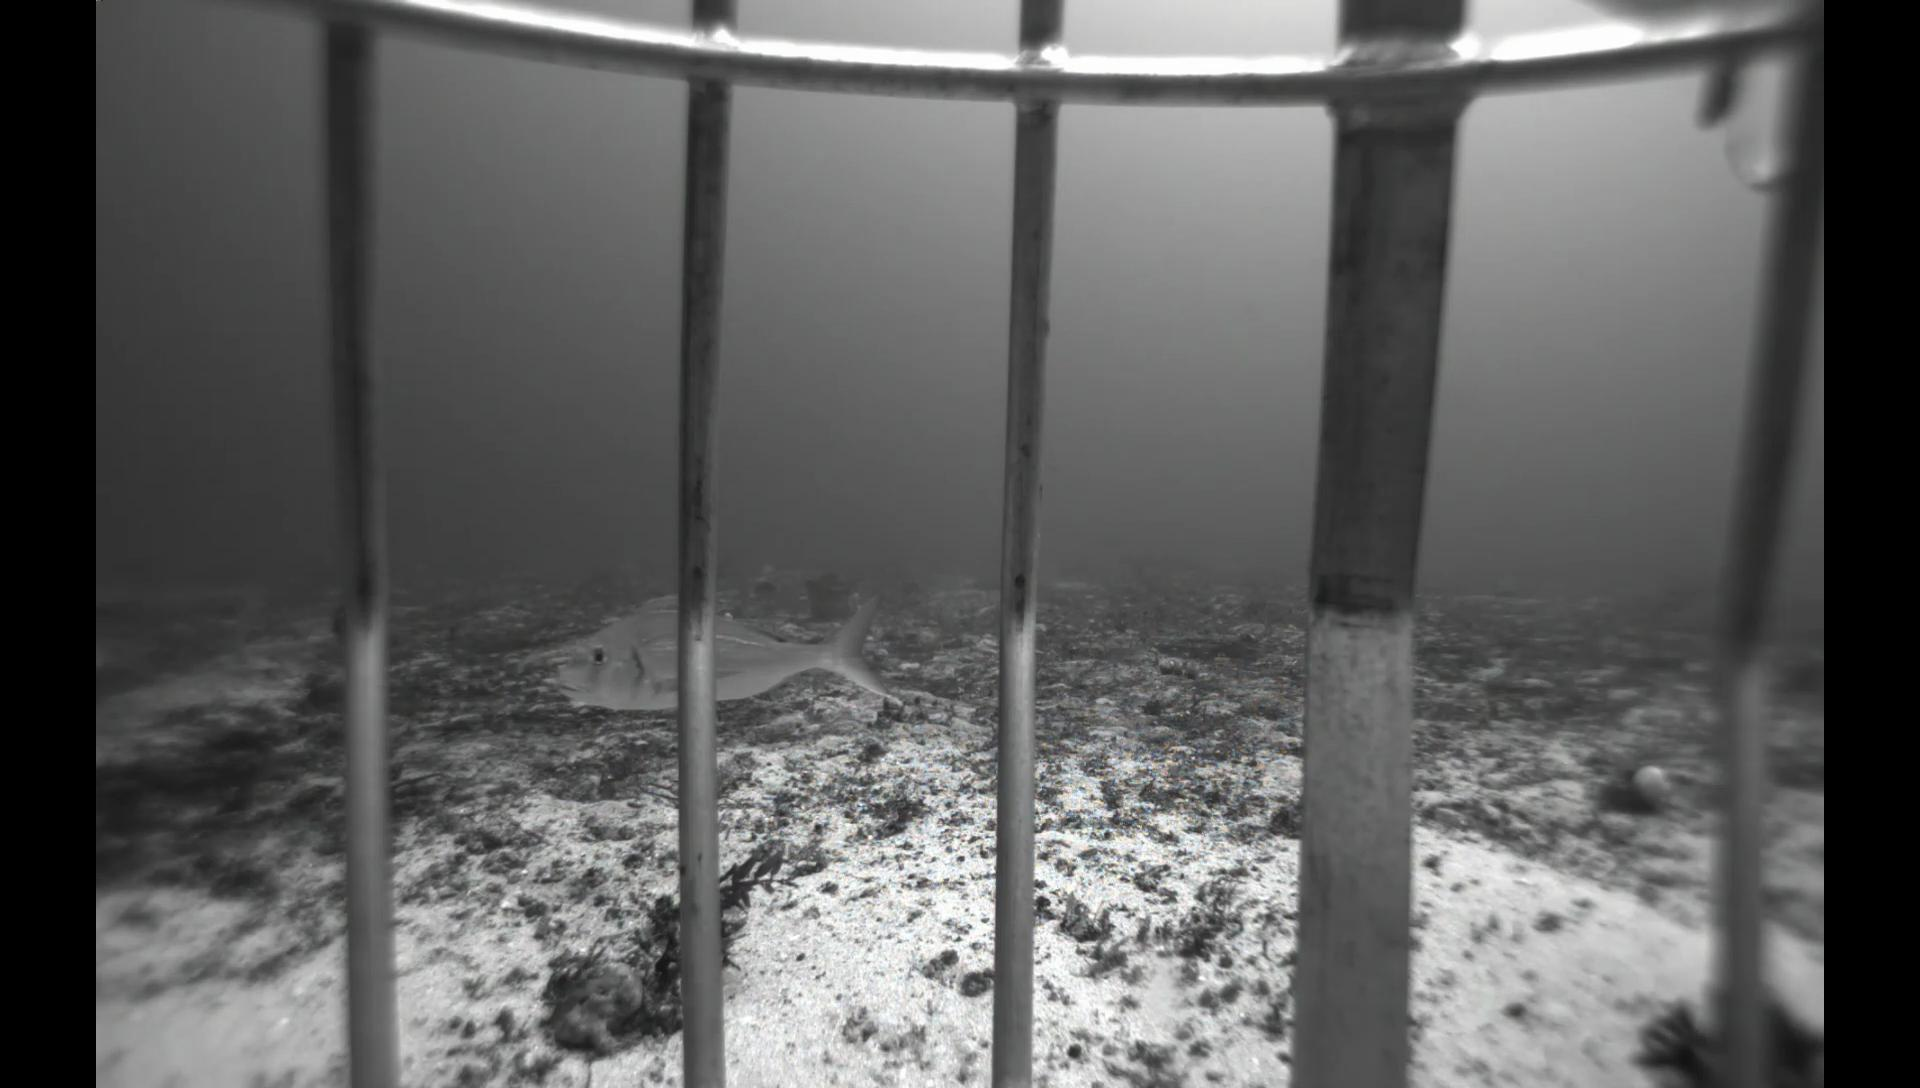CHAETODONOCELLATUS-170260307: (756, 560, 778, 582)
EPINEPHELUSMORIO-170021211: (318, 583, 404, 669)
PAGRUSPAGRUS-170212302: (538, 586, 923, 724)
PRISTIGENYSALTA-170050401: (295, 674, 345, 721)
